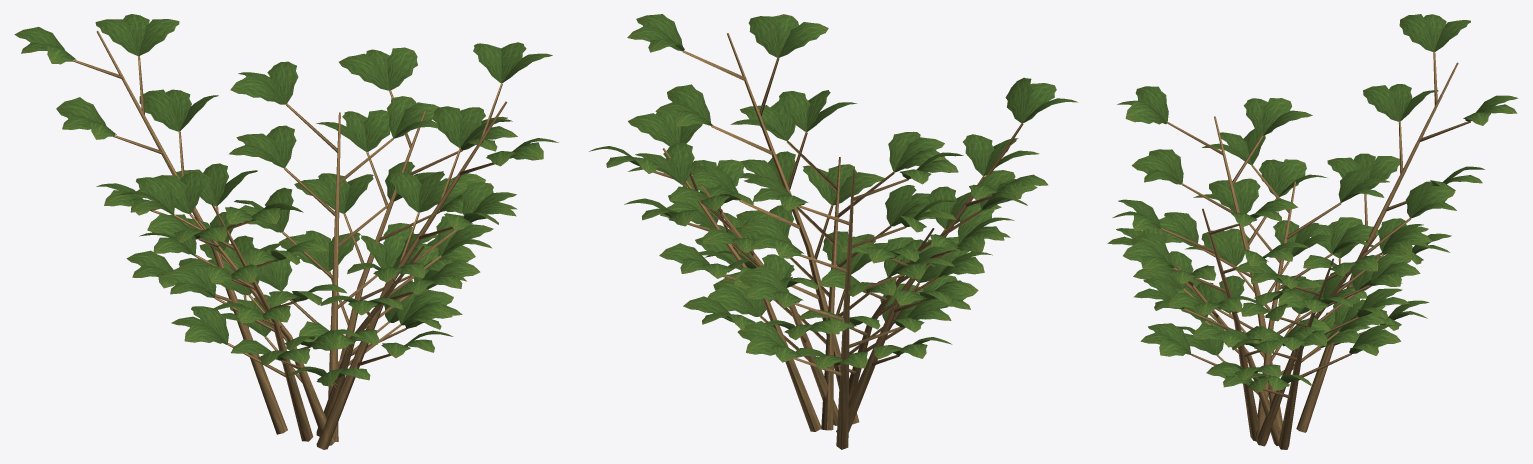
Rendered from HazelSeedling_A.fbx.
The picture shows the model from 3 angles, left to right: view 1: azimuth 30°, elevation 25°; view 2: azimuth 150°, elevation 25°; view 3: azimuth 270°, elevation 25°; orthographic projection. The views are drawn at different scales.
Visible parts, largest first — view 1: HazelSeedling_A_LOD0; view 2: HazelSeedling_A_LOD0; view 3: HazelSeedling_A_LOD0.
Part boxes in pixels (<box>): HazelSeedling_A_LOD0: <box>14,14,558,449</box>; HazelSeedling_A_LOD0: <box>589,14,1077,449</box>; HazelSeedling_A_LOD0: <box>1107,14,1518,449</box>.
Size of what is drawn, in the model's own units: 46.02 by 39.43 by 42.72.
Materials: 1 (1 with a texture image).
